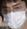with_mask: (1, 1, 27, 29)
